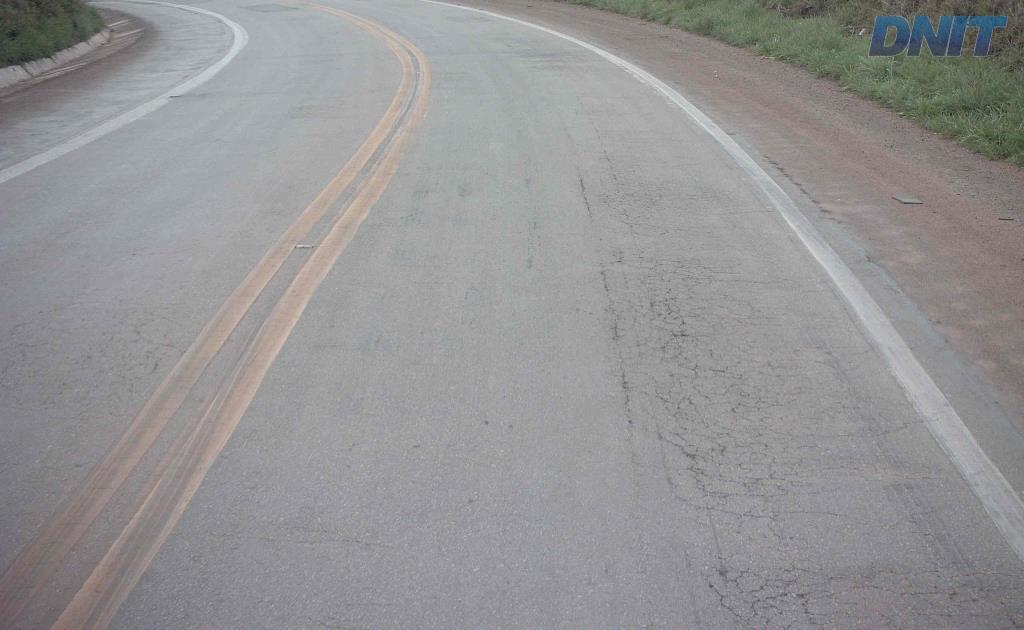crack: (659, 315, 698, 360), (685, 465, 736, 499)
